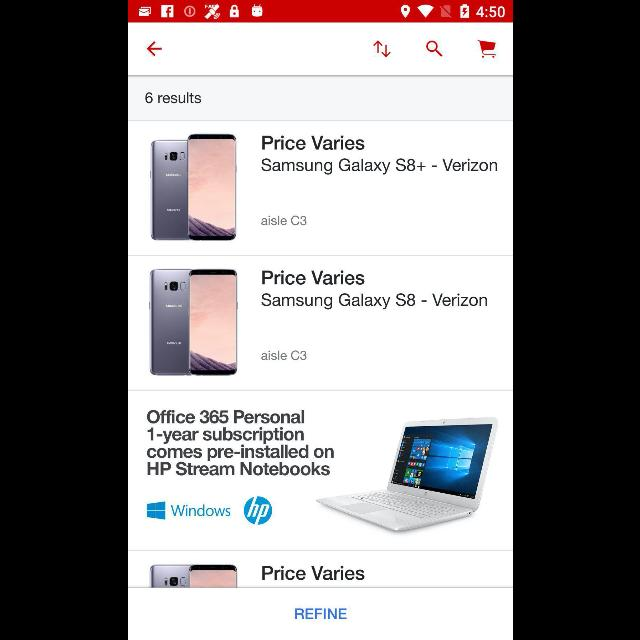icon: (476, 40, 496, 58), (424, 41, 442, 58), (372, 41, 390, 58), (146, 42, 162, 56)
image: (315, 417, 497, 531), (148, 268, 238, 376), (148, 134, 235, 242), (149, 563, 237, 587), (146, 500, 230, 520), (243, 496, 271, 526)
text: (146, 410, 334, 476), (261, 158, 497, 176), (261, 292, 487, 310), (262, 270, 364, 286), (262, 566, 364, 580), (262, 136, 364, 150), (260, 214, 308, 230), (144, 92, 200, 104), (260, 350, 306, 360)
textbutton: (128, 588, 512, 640)
toolbar: (128, 23, 512, 75)
uppertaskbar: (128, 1, 512, 23)
